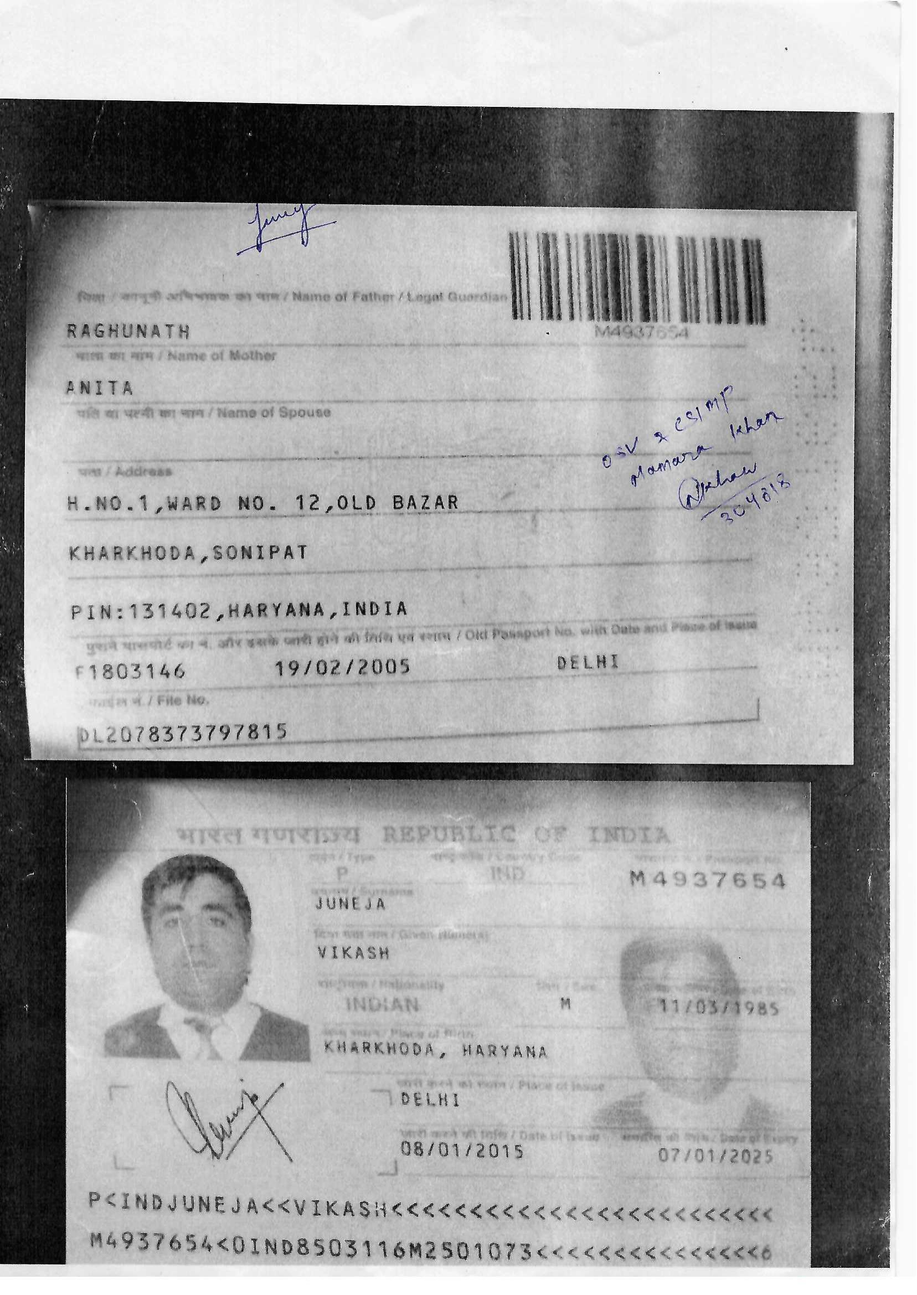DOB: (639, 990, 785, 1024)
File_no: (61, 706, 314, 756)
Surname: (305, 886, 404, 925)
address: (57, 463, 475, 631)
country_code: (482, 858, 545, 891)
date_of_expiry: (645, 1142, 779, 1173)
date_of_issue: (388, 1127, 545, 1175)
details: (72, 1179, 788, 1276)
father_name: (55, 306, 204, 348)
mother_name: (58, 365, 151, 409)
name: (303, 938, 501, 974)
nationality: (328, 988, 439, 1023)
old_passport_details: (64, 648, 654, 690)
passport_no: (617, 862, 791, 898), (579, 305, 706, 349)
photo: (114, 872, 293, 1054)
place_of_birth: (316, 1035, 575, 1071)
place_of_issue: (388, 1085, 477, 1117)
sex: (540, 988, 589, 1024)
sign: (144, 1071, 300, 1170)
type: (321, 860, 364, 888)
